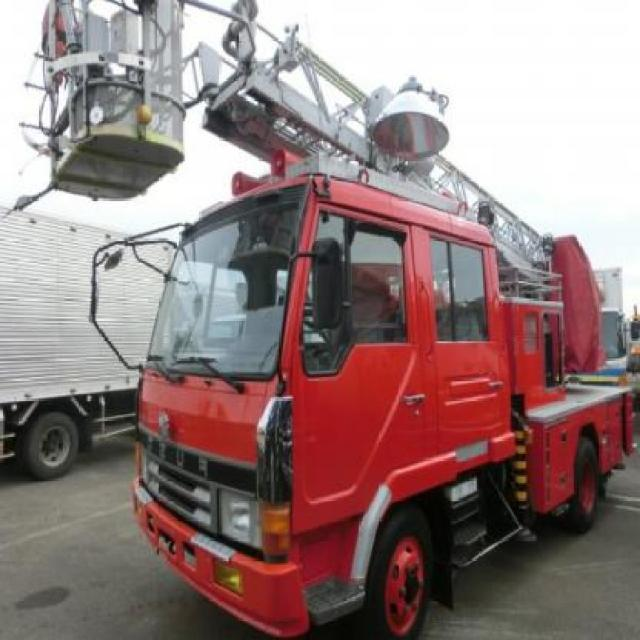truck: (46, 1, 640, 639)
